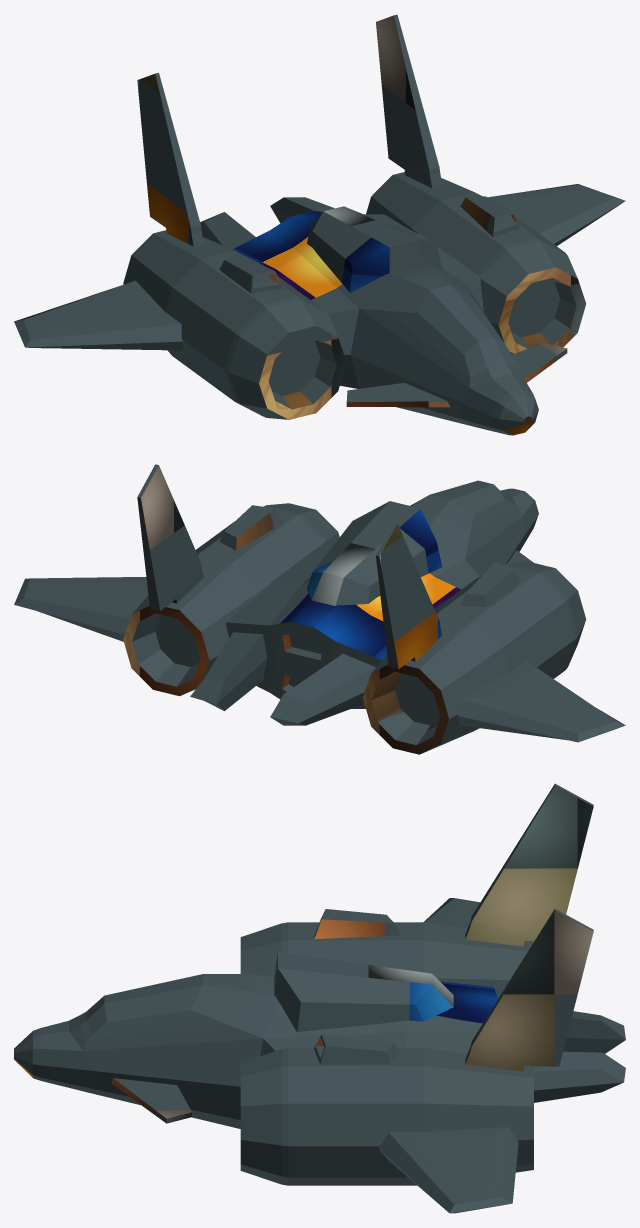
Rendered from MODELUNWRAPPED.fbx.
The picture shows the model from 3 angles, top to bottom: view 1: azimuth 30°, elevation 25°; view 2: azimuth 150°, elevation 25°; view 3: azimuth 270°, elevation 25°; orthographic projection. The views are drawn at different scales.
Visible parts, largest first — view 1: aircraft-i.003; view 2: aircraft-i.003; view 3: aircraft-i.003.
Boxes of the visible parts, box(x1,y1,x2,y2) form: aircraft-i.003: box(14, 14, 625, 435); aircraft-i.003: box(14, 464, 625, 754); aircraft-i.003: box(14, 783, 625, 1213).
Size of the model in its own units: 1234 by 506 by 1013.
